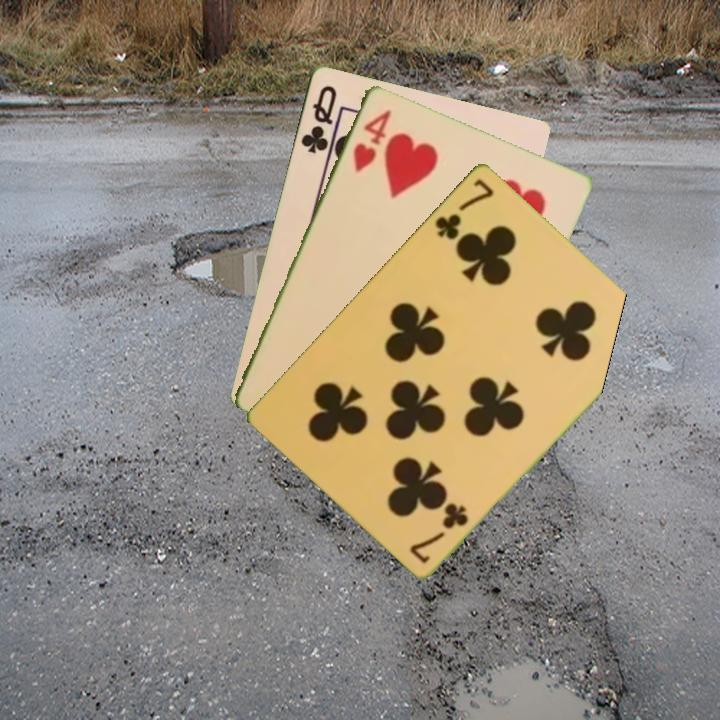4h: (349, 105, 394, 174)
7c: (431, 174, 497, 243), (406, 498, 471, 566)
Qc: (297, 81, 339, 156)
